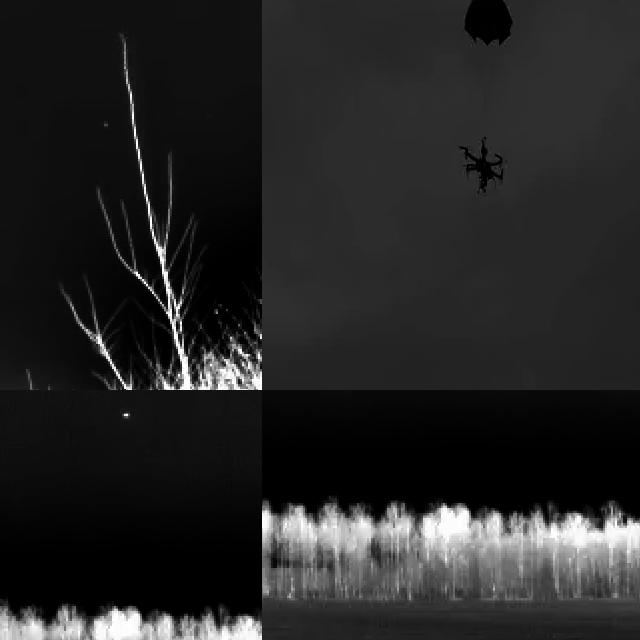0: (91, 116, 117, 136)
1: (110, 406, 134, 431)
drone: (456, 136, 508, 196)
